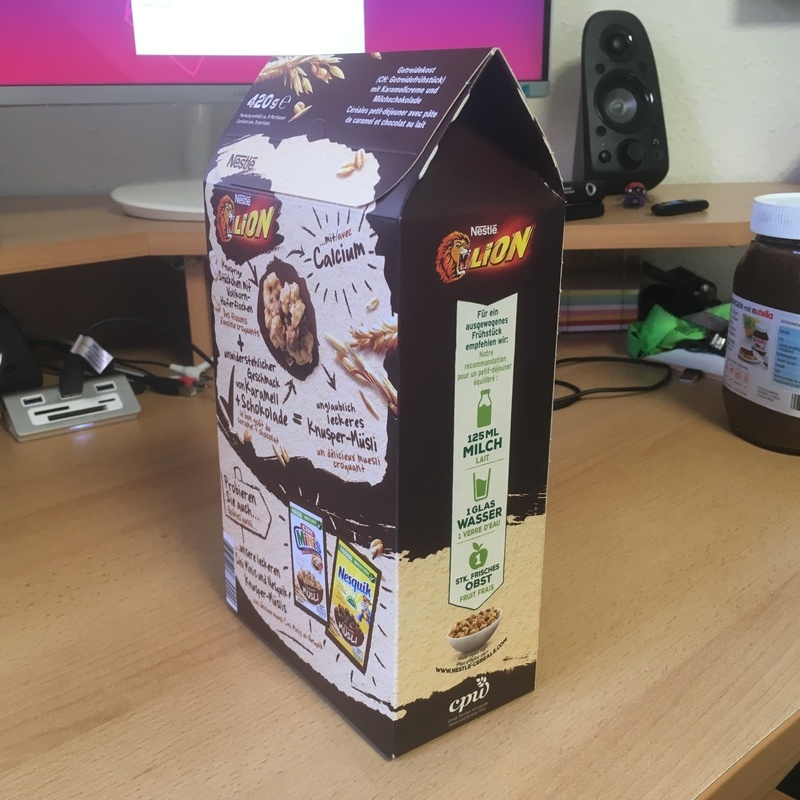cereals: (204, 54, 567, 757)
